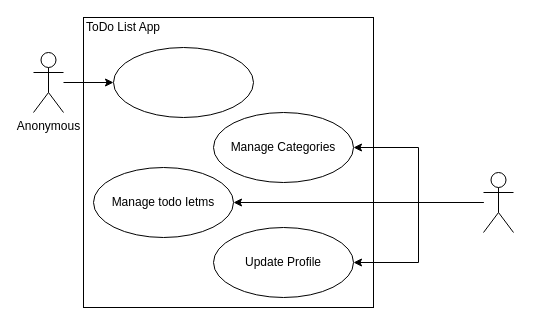
Image size: 537x325. Some labels were removed from this diagram. Here are the shapes that lost their labels. From the top down, the centre of each, then its label:
At [183,82]: "Register/Login".
At [498,202]: "list User".
